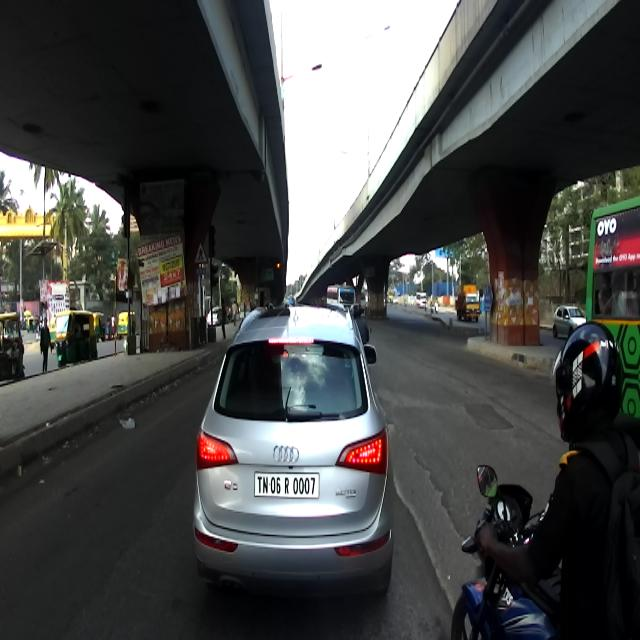car ahead at: (199, 292, 399, 592)
